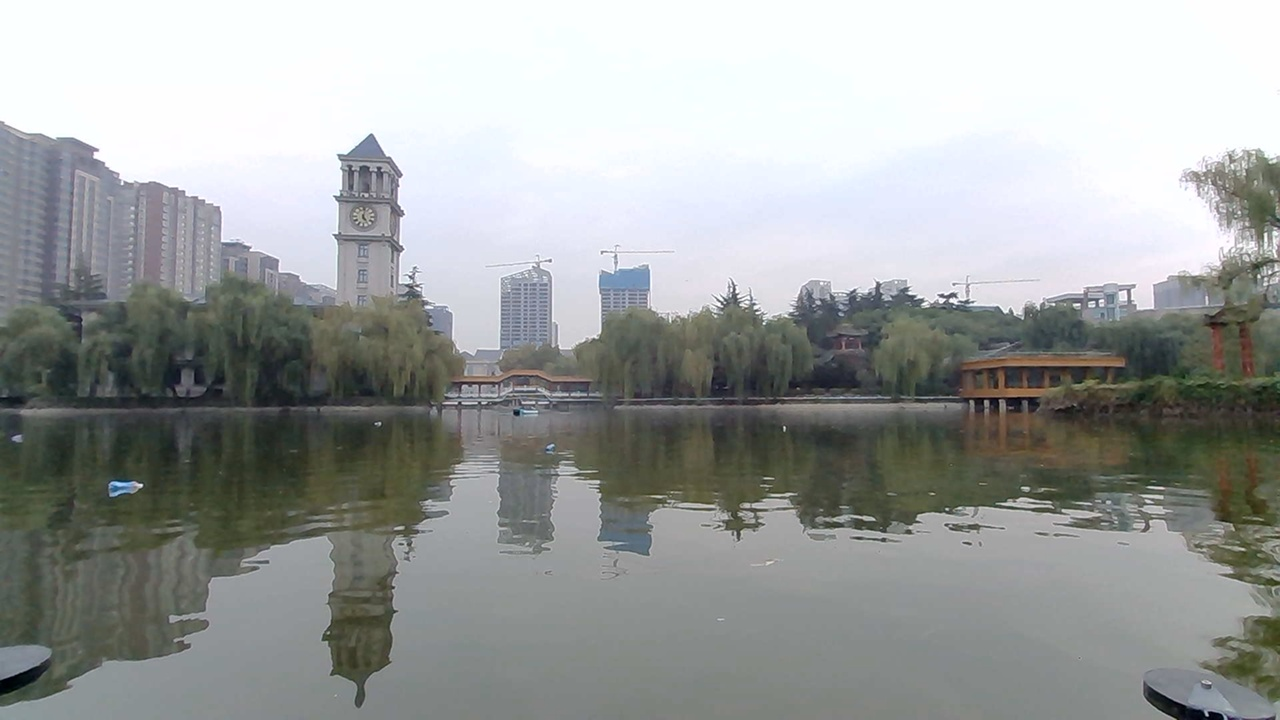bottle: (539, 428, 573, 455), (0, 424, 38, 448), (774, 414, 804, 440), (105, 477, 142, 498), (364, 412, 393, 434)
